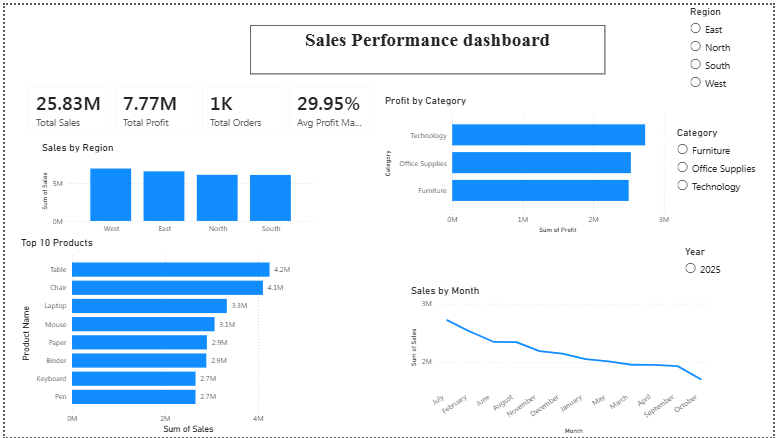

Layout of this report page (visuals, bound fields, positions):
{"tool":"powerbi","page":{"name":"Page 1","canvas":[1280,720],"ordinal":0},"visuals":[{"type":"FlowVisual_C29F1DCC_81F5_4973_94AD_0517D44CC06A","fields":{"table":["Sum(Sales_Performance_Project_Dataset.Sales)","Sum(Sales_Performance_Project_Dataset.Profit)","CountNonNull(Sales_Performance_Project_Dataset.Order ID)","Avg(Sales_Performance_Project_Dataset.Profit Margin %)"]},"box":[21.8,11.8,534.2,213.3],"z":0},{"type":"clusteredColumnChart","title":"Sales by Region","fields":{"Category":["Sales_Performance_Project_Dataset.Region"],"Y":["Sum(Sales_Performance_Project_Dataset.Sales)"]},"box":[57.1,226.5,463.3,163.3],"z":1000},{"type":"clusteredBarChart","title":"Profit by Category","fields":{"Y":["Sum(Sales_Performance_Project_Dataset.Profit)"],"Category":["Sales_Performance_Project_Dataset.Category"]},"box":[628.6,149,483.7,236.7],"z":2000},{"type":"lineChart","title":"Sales by Month","fields":{"Category":["Sales_Performance_Project_Dataset.Month"],"Y":["Sum(Sales_Performance_Project_Dataset.Sales)"]},"box":[671.4,465.3,508.2,255.1],"z":3000},{"type":"clusteredBarChart","title":"Top 10 Products","fields":{"Category":["Sales_Performance_Project_Dataset.Product Name"],"Y":["Sum(Sales_Performance_Project_Dataset.Sales)"]},"box":[22.4,385.7,491.8,334.7],"z":4000},{"type":"listSlicer","fields":{"Values":["Sales_Performance_Project_Dataset.Region"]},"box":[1137.1,0,143.4,163.9],"z":5000},{"type":"listSlicer","fields":{"Values":["Sales_Performance_Project_Dataset.Category"]},"box":[1114.3,202,165.3,157.1],"z":6000},{"type":"listSlicer","fields":{"Values":["Sales_Performance_Project_Dataset.Year"]},"box":[1128.6,400,151,65.3],"z":7000},{"type":"cardVisual","fields":{"Data":["Sum(Sales_Performance_Project_Dataset.Sales)","Sum(Sales_Performance_Project_Dataset.Profit)","CountNonNull(Sales_Performance_Project_Dataset.Order ID)","Avg(Sales_Performance_Project_Dataset.Profit Margin %)"]},"box":[22.4,118.4,606.1,108.2],"z":8000},{"type":"textbox","box":[408.2,32.7,591.8,81.6],"z":9000},{"type":"textbox","box":[515,521,150,199],"z":10000}]}

Visuals, with their boxes in screenshot pixels (x1, y1, x2, y2), scaled from the page's 1280x720 canvas onto the 776x438 screenshot:
FlowVisual_C29F1DCC_81F5_4973_94AD_0517D44CC06A - Sum(Sales_Performance_Project_Dataset.Sales) x Sum(Sales_Performance_Project_Dataset.Profit): [13, 7, 337, 137]
"Sales by Region" clusteredColumnChart: [35, 138, 315, 237]
"Profit by Category" clusteredBarChart: [381, 91, 674, 235]
"Sales by Month" lineChart: [407, 283, 715, 437]
"Top 10 Products" clusteredBarChart: [14, 235, 312, 437]
listSlicer - Sales_Performance_Project_Dataset.Region: [689, 0, 775, 100]
listSlicer - Sales_Performance_Project_Dataset.Category: [676, 123, 775, 218]
listSlicer - Sales_Performance_Project_Dataset.Year: [684, 243, 775, 283]
cardVisual - Sum(Sales_Performance_Project_Dataset.Sales) x Sum(Sales_Performance_Project_Dataset.Profit): [14, 72, 381, 138]
textbox: [247, 20, 606, 70]
textbox: [312, 317, 403, 437]
